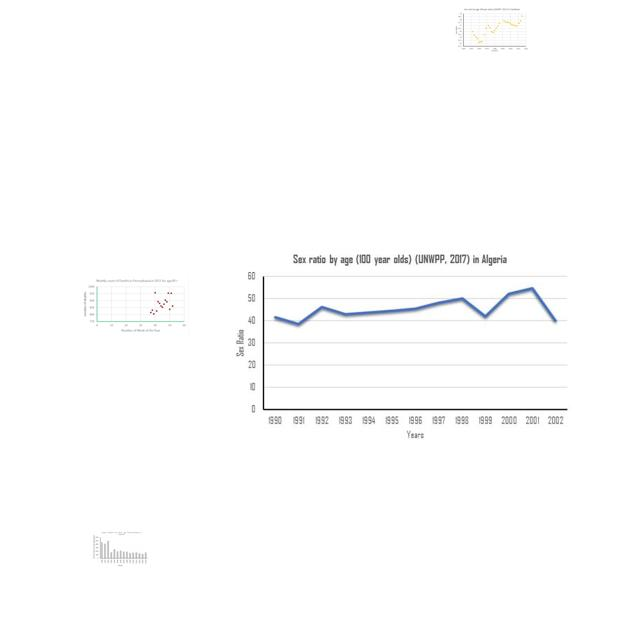Graph: (230, 249, 573, 443), (81, 277, 189, 335), (455, 7, 529, 52), (92, 531, 148, 567)
